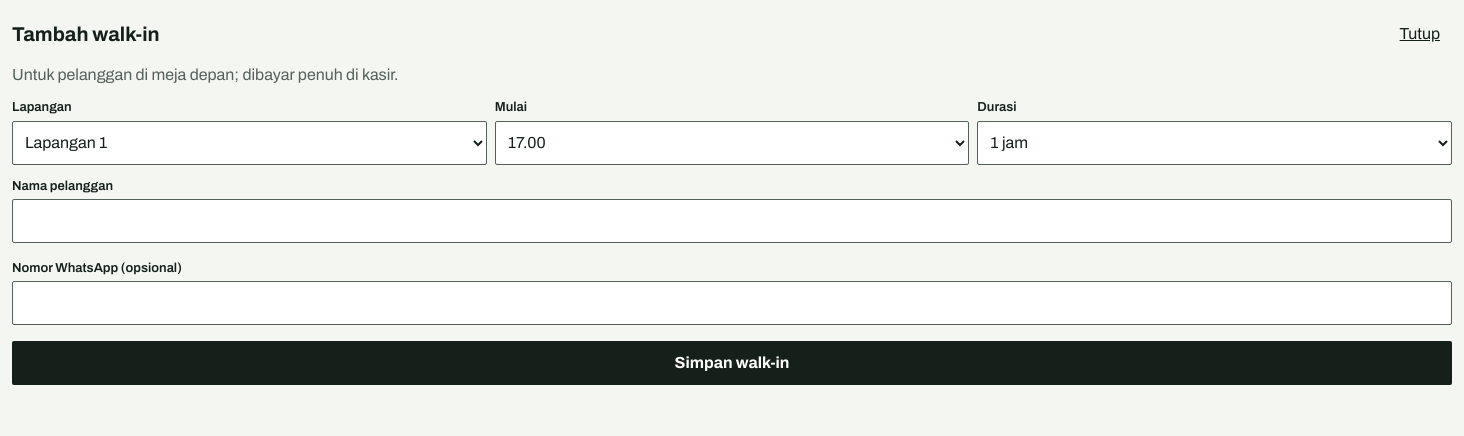
Scenario: WalkInForm › explains a conflict the API found after another booking landed first
Type "Joko Susilo" into the field labelled "Nama pelanggan" at (732, 221), box x1=12 y1=199 x2=1452 y2=243
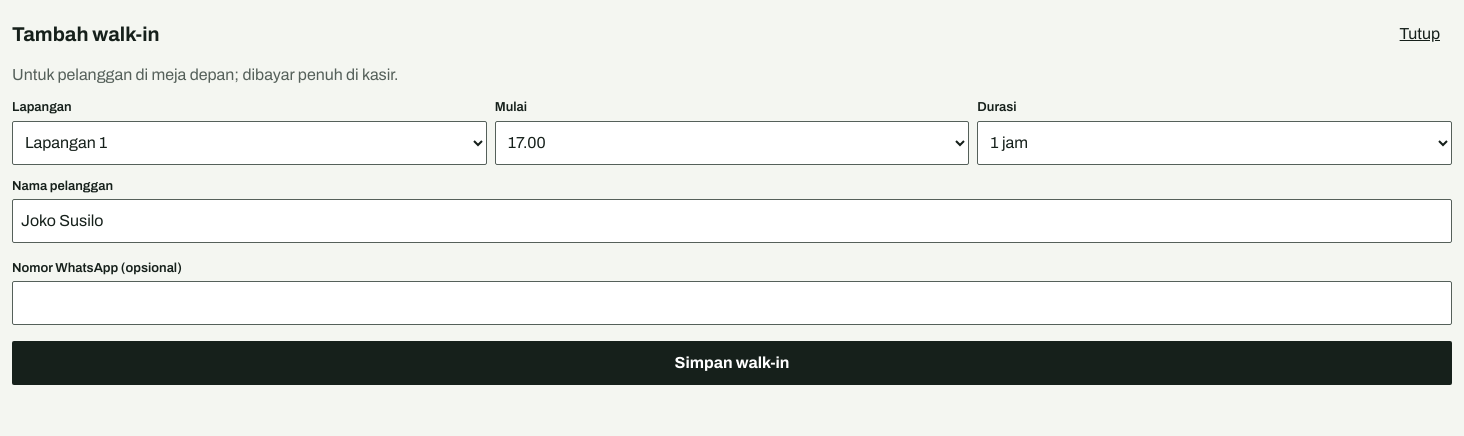
Click the button "Simpan walk-in" at (732, 363), box x1=12 y1=341 x2=1452 y2=385
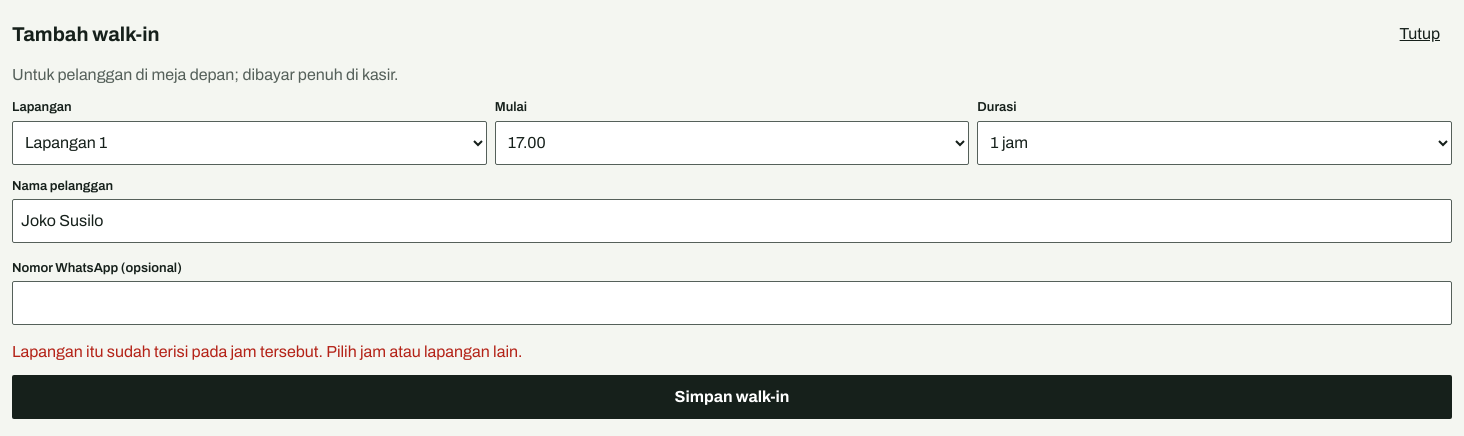
Result: the message shows "sudah terisi pada jam tersebut" at x1=12 y1=343 x2=522 y2=360
